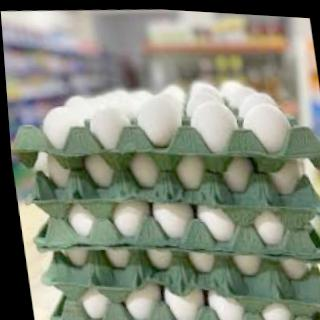Egg: (157, 143, 222, 203), (205, 143, 269, 203), (257, 147, 320, 206), (30, 96, 87, 155), (239, 100, 296, 158), (188, 96, 245, 154), (128, 89, 185, 147), (77, 96, 134, 154), (122, 146, 171, 201), (77, 147, 126, 202), (246, 198, 295, 253), (197, 199, 246, 254), (148, 188, 197, 243), (106, 192, 155, 247), (58, 199, 106, 253), (275, 251, 319, 294), (137, 239, 181, 282), (121, 276, 164, 320), (77, 276, 120, 320), (206, 277, 249, 320), (224, 243, 268, 285), (181, 239, 225, 281), (96, 240, 140, 282), (164, 278, 207, 320)
